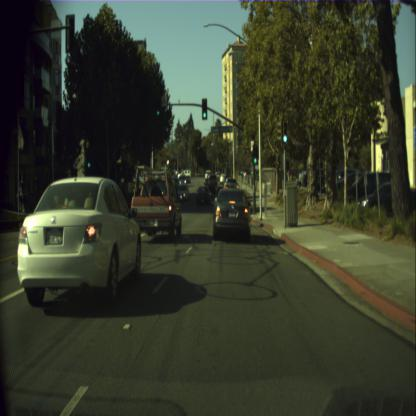Green: (282, 120, 288, 144), (202, 98, 206, 119), (253, 144, 257, 164), (198, 141, 200, 150), (218, 158, 219, 164), (225, 160, 226, 164)
GreenLeft: (87, 152, 91, 170), (156, 99, 160, 115)
